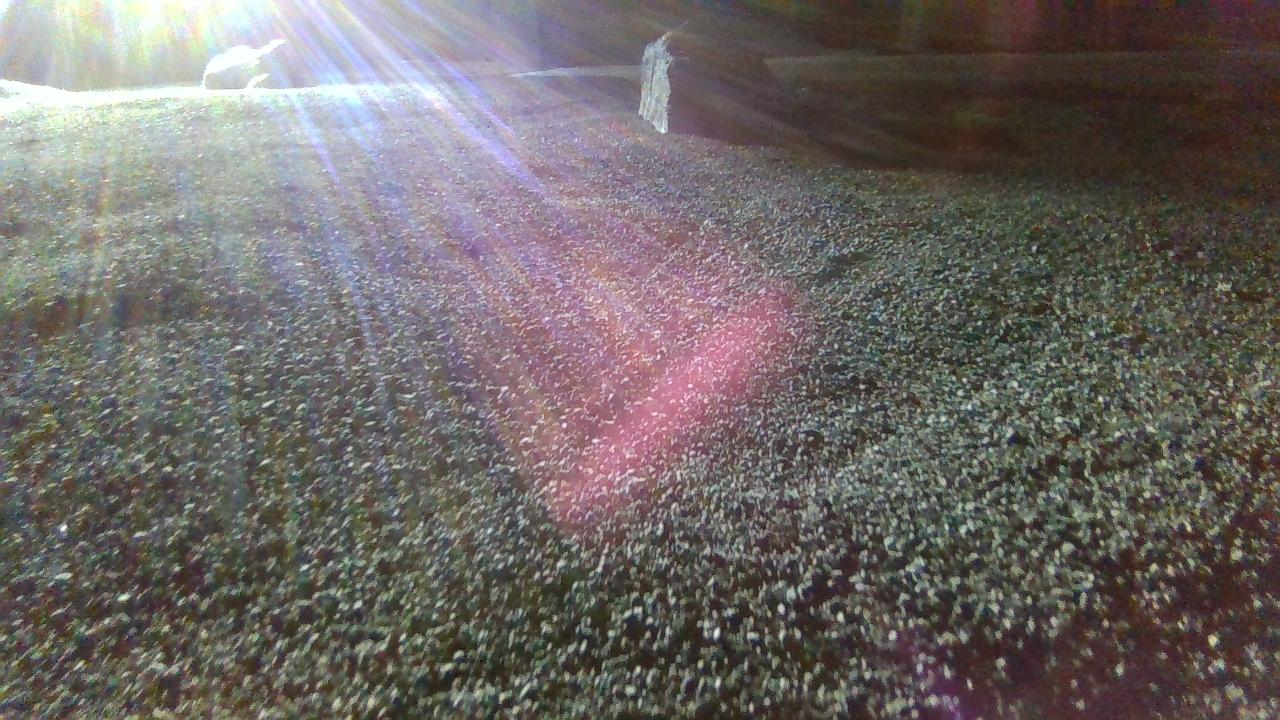rock: (201, 37, 303, 88), (639, 30, 677, 132)
